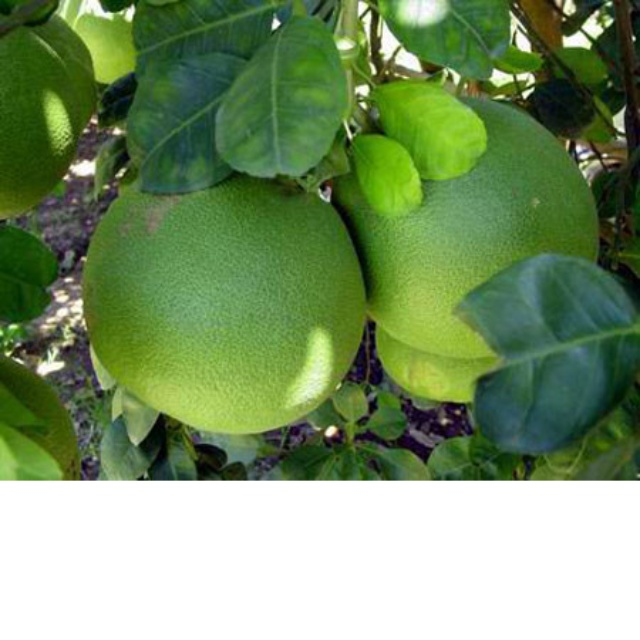buoi: (77, 151, 370, 439)
